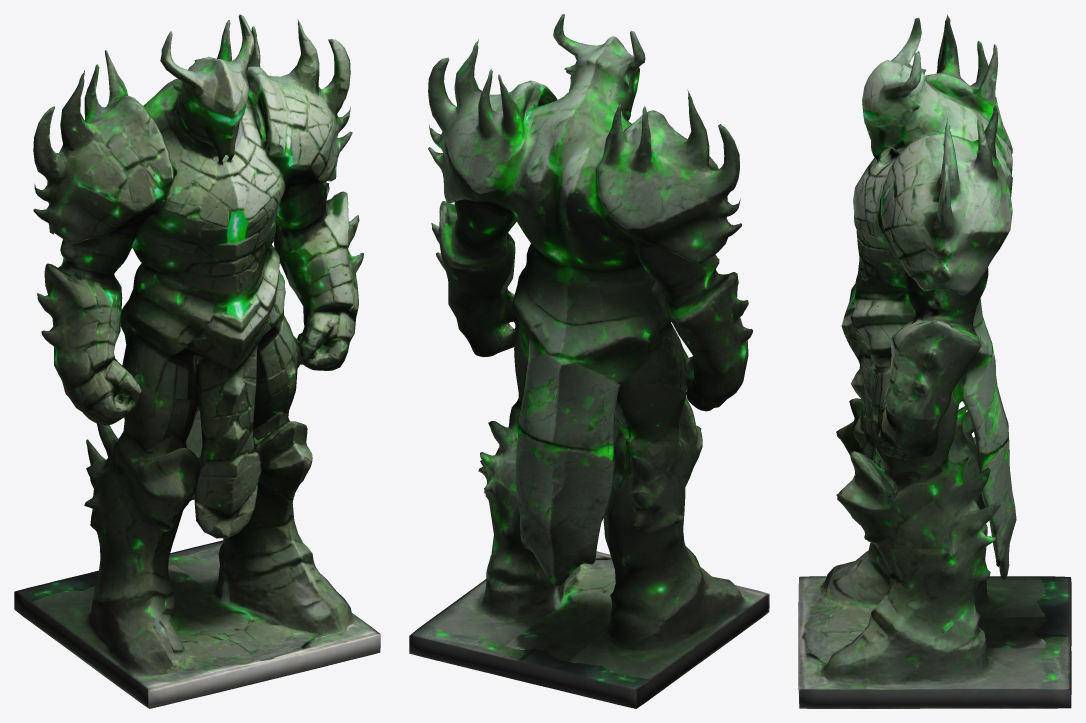
File: fighter.glb
The picture shows the model from 3 angles, left to right: view 1: azimuth 30°, elevation 25°; view 2: azimuth 150°, elevation 25°; view 3: azimuth 270°, elevation 25°; orthographic projection. The views are drawn at different scales.
Size of the model in its own units: 1.09 by 2 by 0.8004.
Materials: 1 (1 with a texture image).
